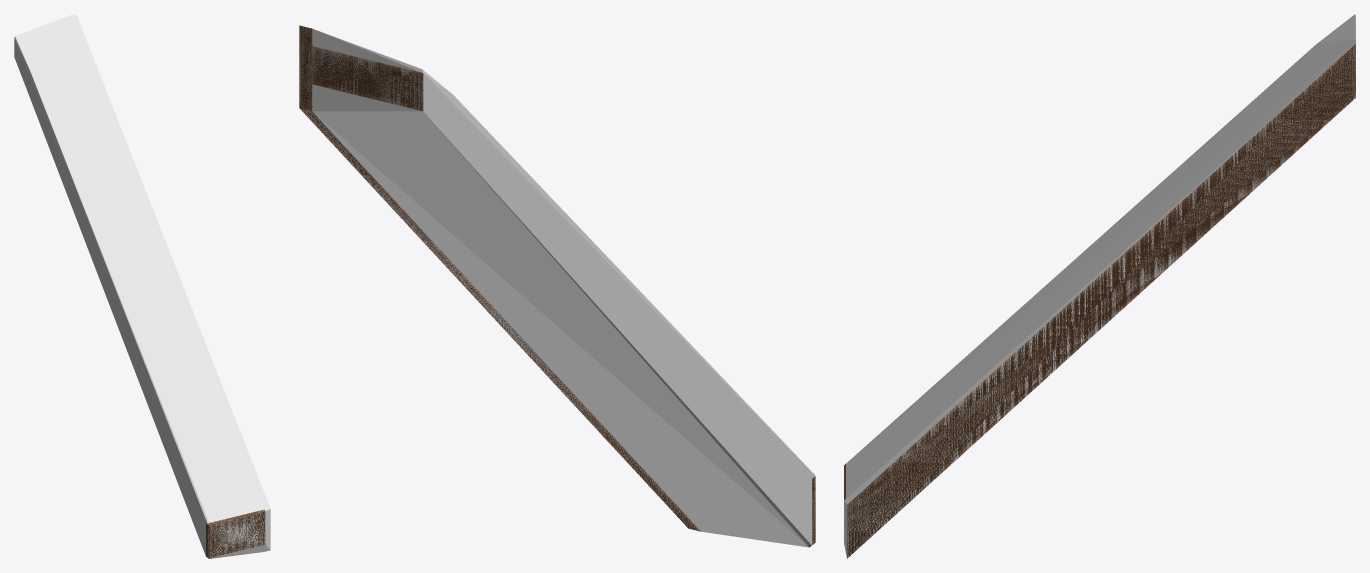
File: house_roof_end.glb
3 renders of one model, left to right at view 1: azimuth 30°, elevation 25°; view 2: azimuth 150°, elevation 25°; view 3: azimuth 270°, elevation 25°, orthographic. The views are drawn at different scales.
Visible parts, largest first — view 1: COL_house_roof_end_static_00, house_roof_end_static; view 2: COL_house_roof_end_static_00, house_roof_end_static; view 3: COL_house_roof_end_static_00, house_roof_end_static.
Part boxes in pixels (box(x1,y1,x2,y2)): COL_house_roof_end_static_00: box(14, 14, 270, 558); house_roof_end_static: box(206, 509, 265, 558); COL_house_roof_end_static_00: box(299, 27, 815, 547); house_roof_end_static: box(299, 25, 815, 547); COL_house_roof_end_static_00: box(844, 14, 1355, 558); house_roof_end_static: box(844, 44, 1355, 558).
Bounding box in the file's own units: 0.49 × 2.92 × 2.62.
Materials: 2 (2 with a texture image).
